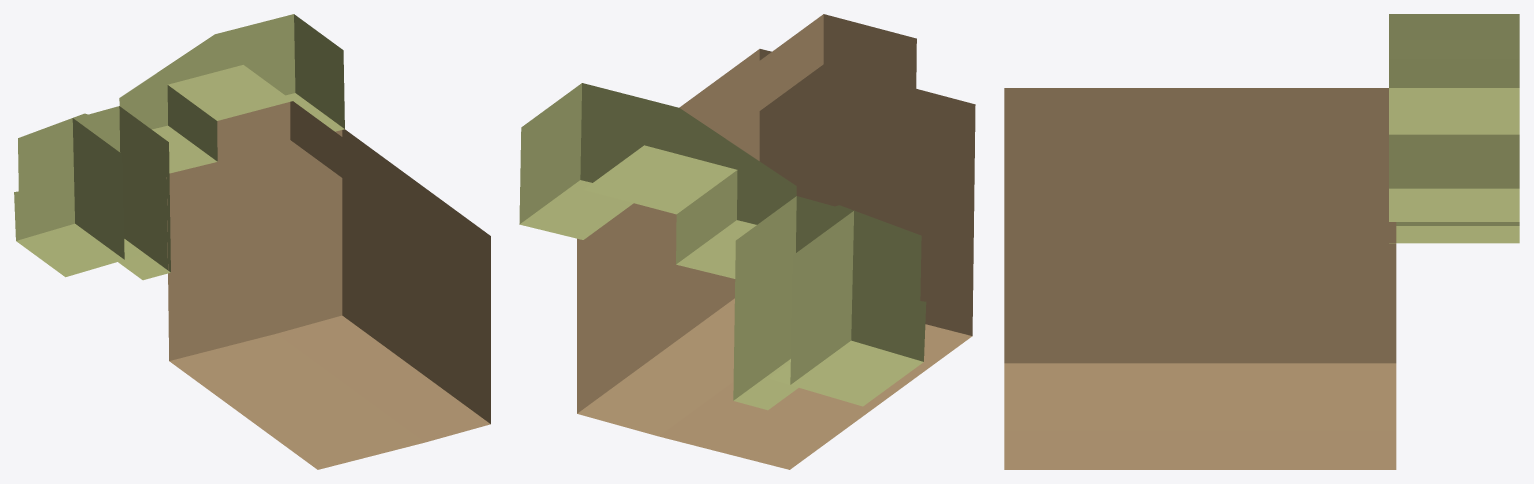
3 views of the same model, side by side, from view 1: azimuth 30°, elevation 25°; view 2: azimuth 150°, elevation 25°; view 3: azimuth 270°, elevation 25° (orthographic). The views are drawn at different scales.
Parts seen in each view (by area): view 1: 0_0_1_1_3_2_3_2_3_1; view 2: 0_0_1_1_3_2_3_2_3_1; view 3: 0_0_1_1_3_2_3_2_3_1.
Part boxes in pixels (bbox=[...]): 0_0_1_1_3_2_3_2_3_1: bbox=[14, 14, 490, 469]; 0_0_1_1_3_2_3_2_3_1: bbox=[519, 14, 975, 469]; 0_0_1_1_3_2_3_2_3_1: bbox=[1004, 14, 1519, 469].
Size of the model in its own units: 29.5 by 27.15 by 35.5.
